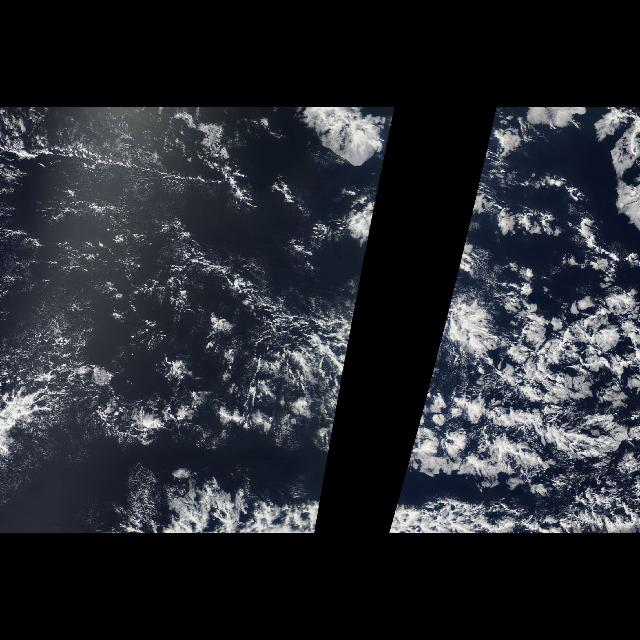Flower: (419, 282, 636, 508)
Gravel: (220, 290, 356, 452)
Sugar: (0, 113, 230, 253)
